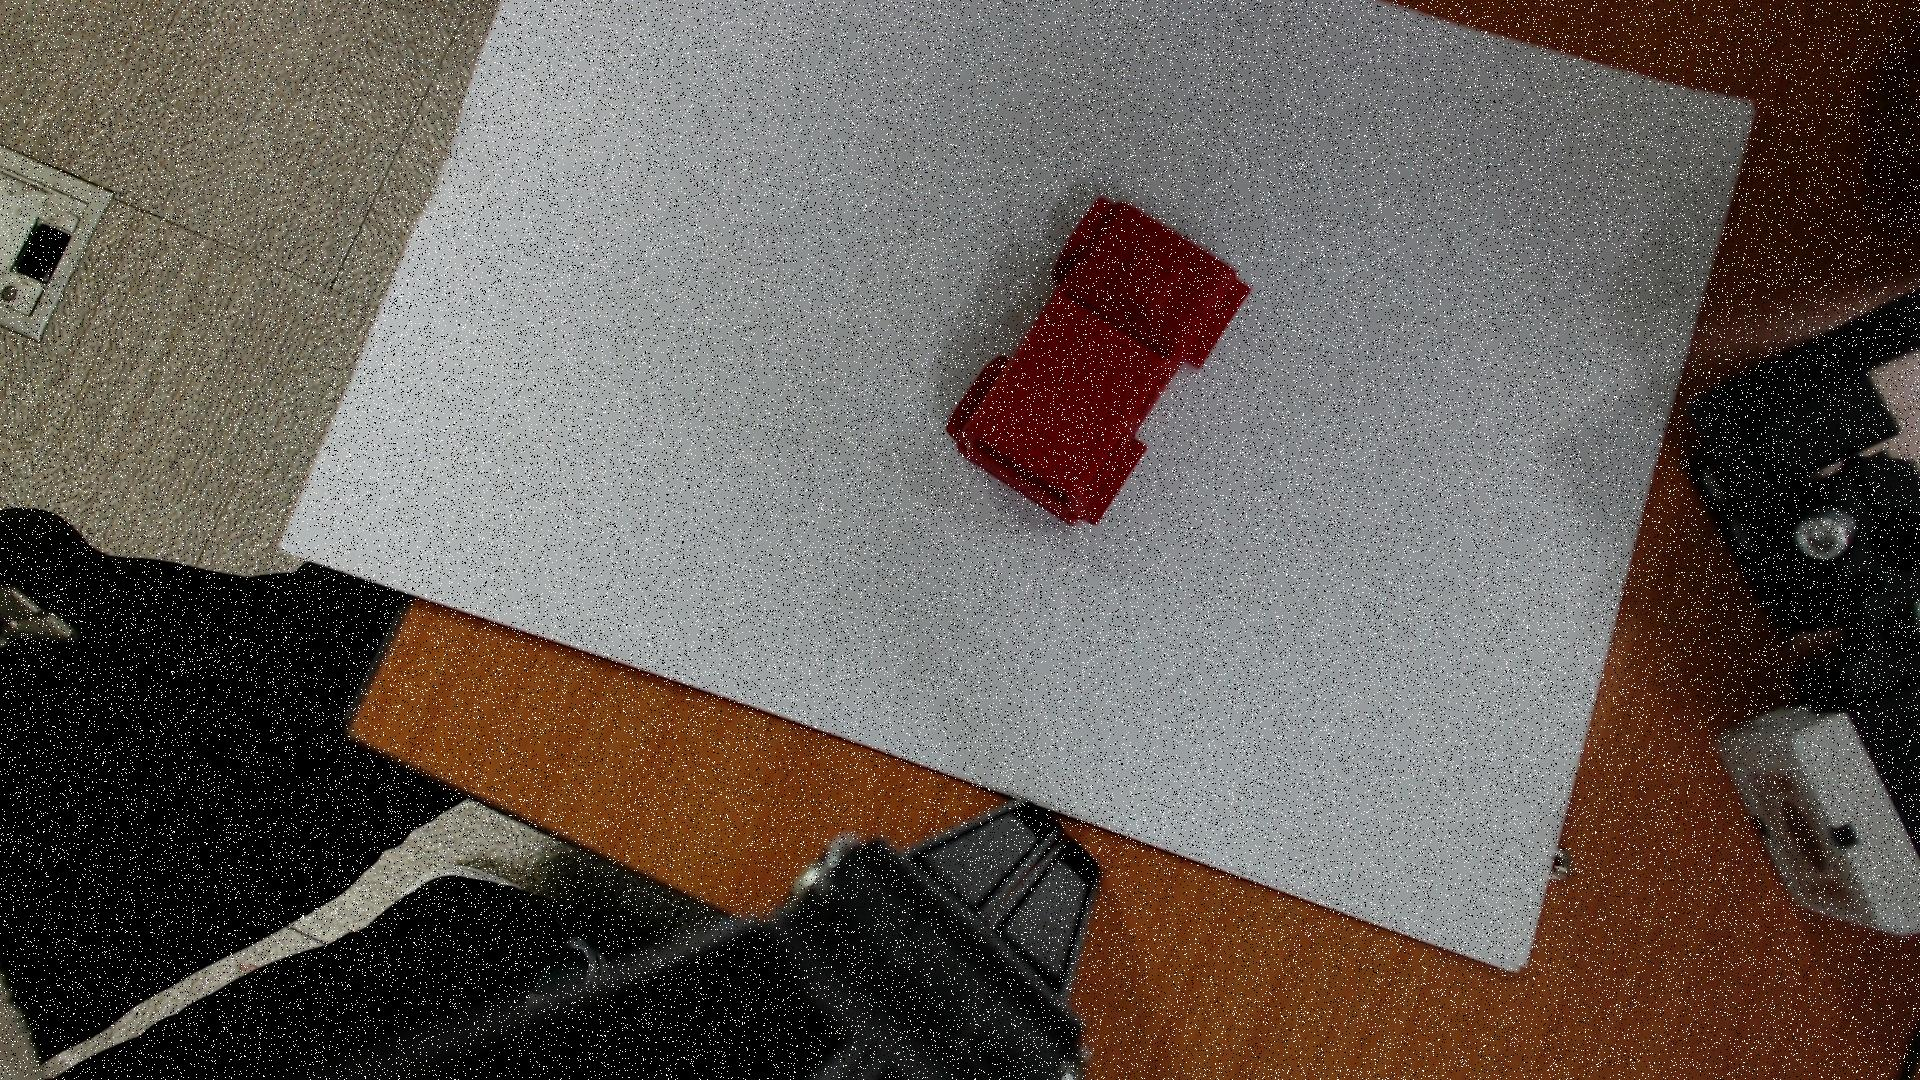Upper_ok: (945, 198, 1249, 524)
